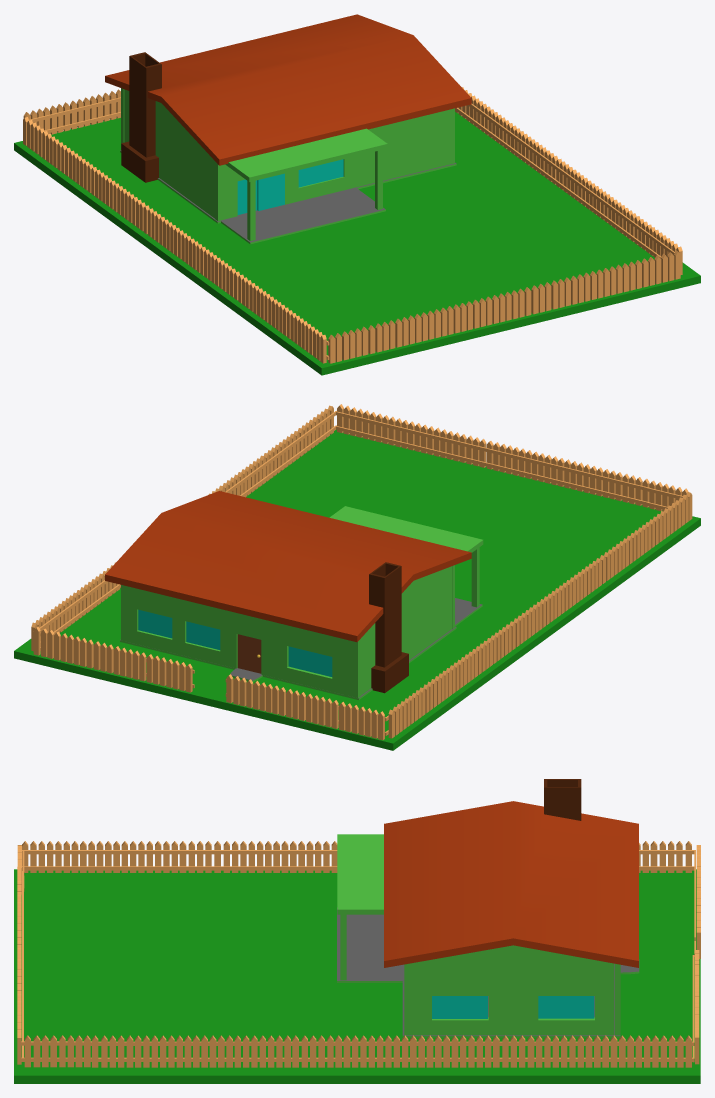
File: Casa.fbx
The picture shows the model from 3 angles, top to bottom: view 1: azimuth 30°, elevation 25°; view 2: azimuth 150°, elevation 25°; view 3: azimuth 270°, elevation 25°; orthographic projection. The views are drawn at different scales.
Visible parts, largest first — view 1: pCube1640, polySurface79, pCube1628, pCube1625; view 2: pCube1640, polySurface79, pCube1616, pCube1600, pCube1618, pCube1604; view 3: pCube1640, polySurface79, pCube1615, pCube1623.
Part boxes in pixels (x1=…): pCube1640: x1=14, y1=14, x2=700, y2=375; polySurface79: x1=23, y1=84, x2=682, y2=363; pCube1628: x1=257, y1=173, x2=284, y2=210; pCube1625: x1=298, y1=159, x2=343, y2=187; pCube1640: x1=14, y1=429, x2=700, y2=750; polySurface79: x1=31, y1=404, x2=692, y2=740; pCube1616: x1=288, y1=646, x2=332, y2=676; pCube1600: x1=237, y1=634, x2=261, y2=673; pCube1618: x1=186, y1=621, x2=220, y2=649; pCube1604: x1=138, y1=609, x2=172, y2=638; pCube1640: x1=14, y1=779, x2=700, y2=1083; polySurface79: x1=17, y1=841, x2=700, y2=1067; pCube1615: x1=538, y1=996, x2=594, y2=1018; pCube1623: x1=432, y1=996, x2=487, y2=1018.
Bounding box in the file's own units: 2.8 × 0.8372 × 3.95.
